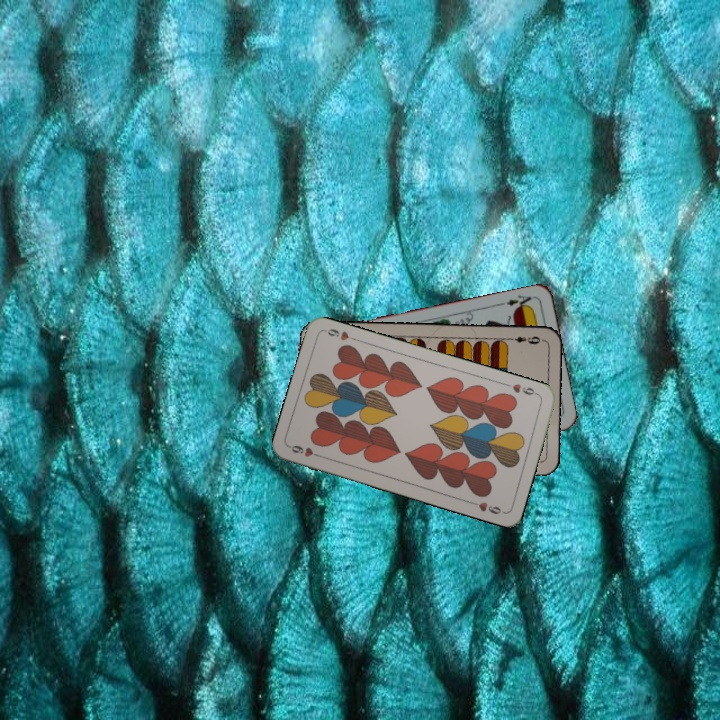E9: (504, 332, 543, 347)
EA: (496, 291, 536, 312)
H9: (286, 441, 326, 461), (502, 380, 541, 399)
